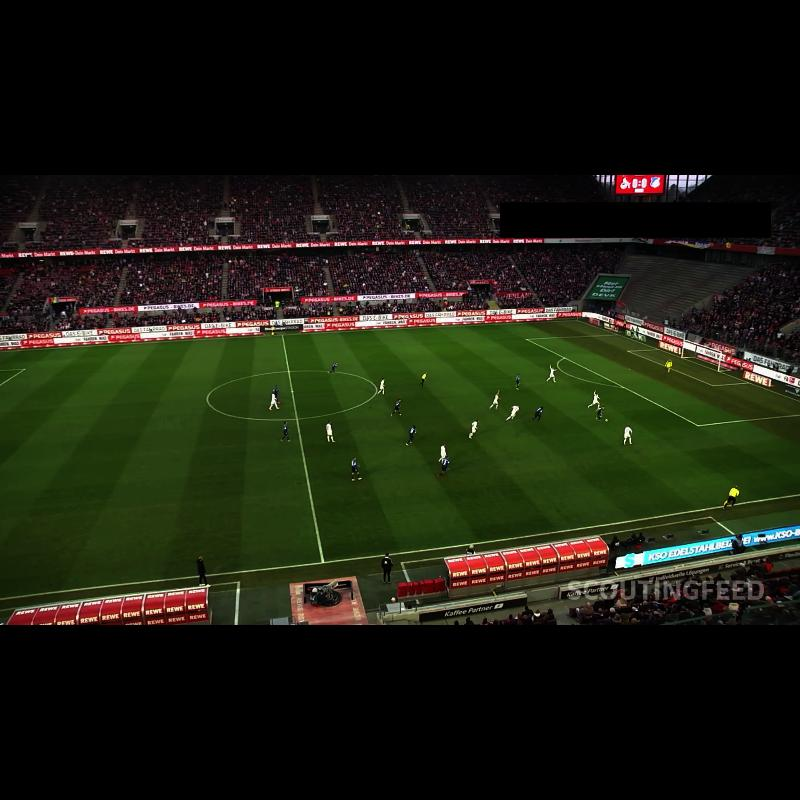cross_recipient_zone: (526, 334, 800, 426), (0, 369, 25, 386)
crossing_player_zone: (597, 415, 800, 510), (432, 320, 617, 342), (0, 344, 126, 370)
pitch: (0, 320, 800, 599)
